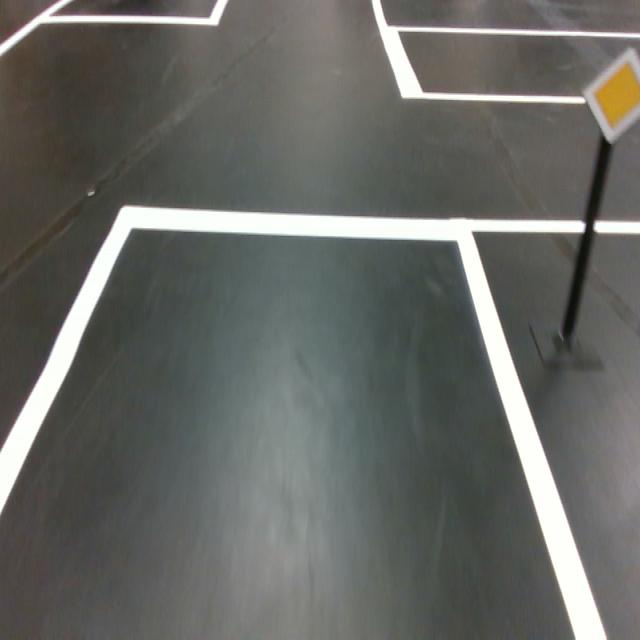priority-sign: (579, 44, 640, 145)
